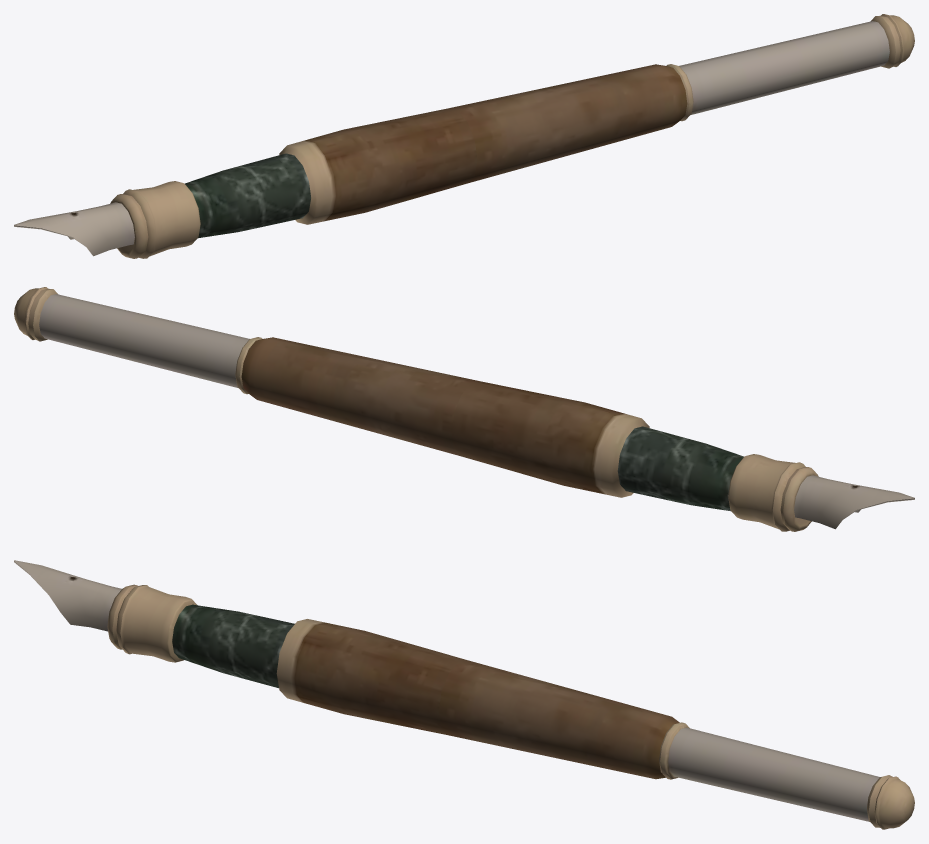
The model's file is SM_pen_8195ca.glb.
3 renders of one model, top to bottom at view 1: azimuth 30°, elevation 25°; view 2: azimuth 150°, elevation 25°; view 3: azimuth 330°, elevation 25°, orthographic.
Bounding box in the file's own units: 0.199 × 0.0165 × 0.0165.
1 material, 1 textured.
